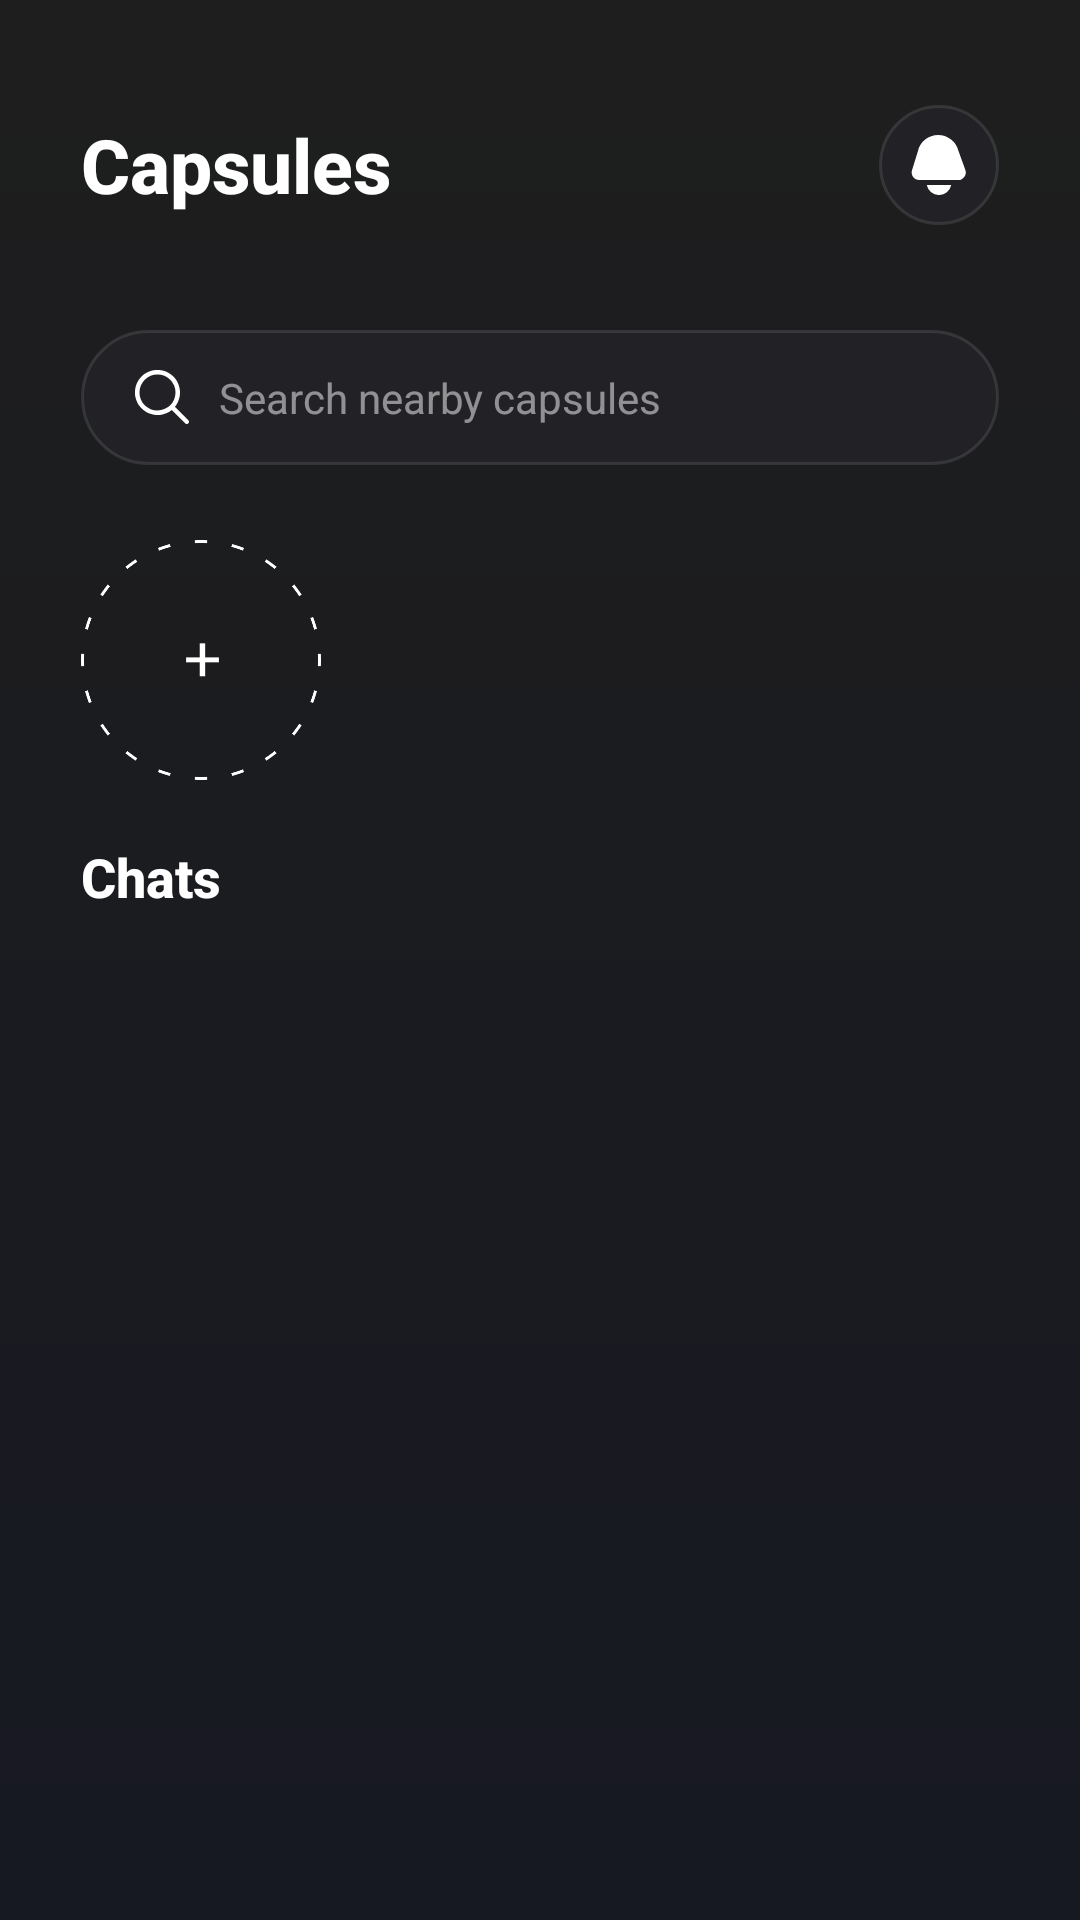

Named icons in this screenshot (1080 x 1920) and their bounding boxes, (x1, y1, x2, y2):
bell: (880, 106, 998, 224)
userstory: (81, 540, 321, 780)
